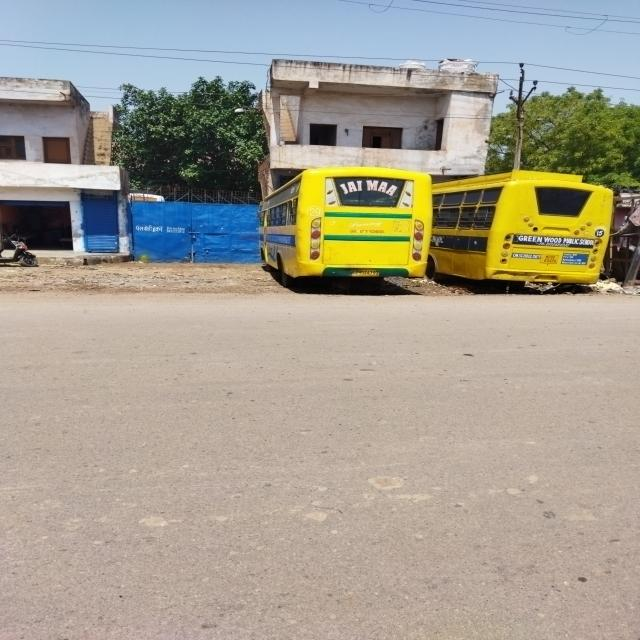Bus: (268, 178, 430, 292), (453, 175, 608, 290)
